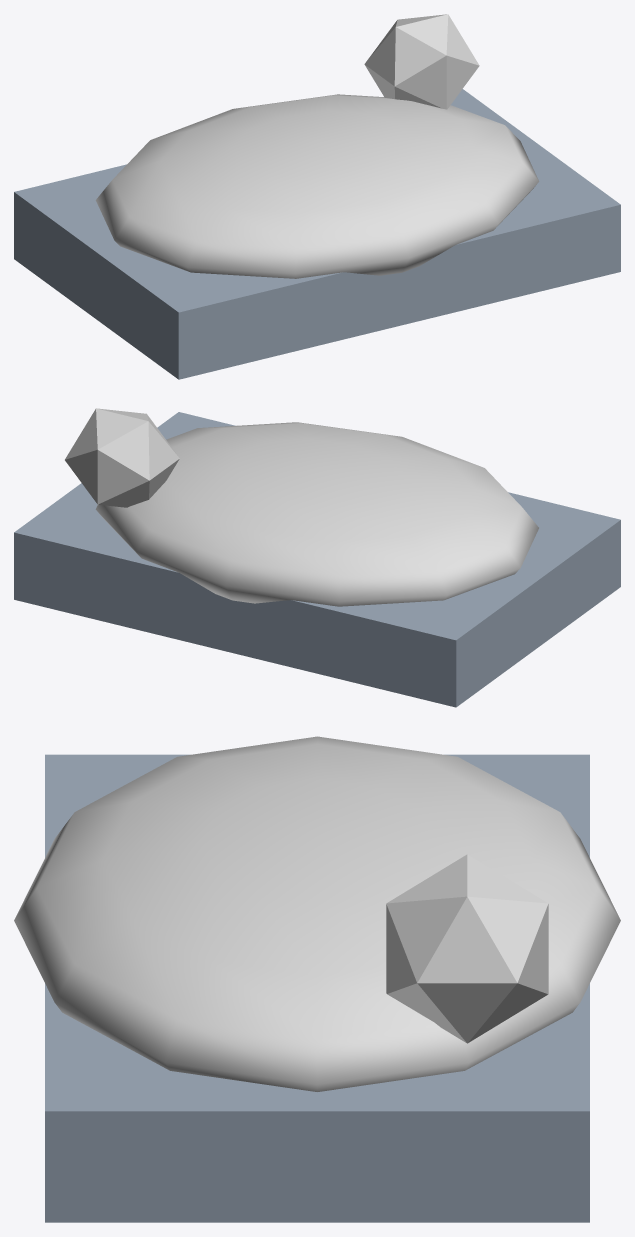
Rendered from home.glb.
3 views of the same model, one above another, from view 1: azimuth 30°, elevation 25°; view 2: azimuth 150°, elevation 25°; view 3: azimuth 270°, elevation 25° (orthographic). The views are drawn at different scales.
Visible parts, largest first — view 1: home_cushion, home_base, home_marker; view 2: home_cushion, home_base, home_marker; view 3: home_cushion, home_base, home_marker.
Part boxes in pixels (x1=…): home_cushion: x1=95, y1=94, x2=539, y2=278; home_base: x1=14, y1=89, x2=620, y2=379; home_marker: x1=364, y1=14, x2=479, y2=109; home_cushion: x1=95, y1=422, x2=538, y2=606; home_base: x1=14, y1=412, x2=620, y2=707; home_marker: x1=65, y1=408, x2=179, y2=507; home_cushion: x1=14, y1=736, x2=620, y2=1091; home_base: x1=45, y1=754, x2=589, y2=1222; home_marker: x1=386, y1=854, x2=548, y2=1043.
Size of the model in its own units: 1.24 by 0.4691 by 0.891.
